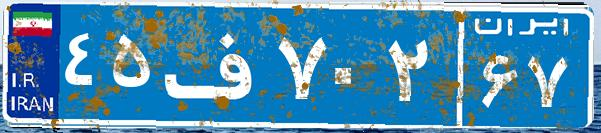0: (330, 28, 385, 110)
2: (385, 28, 445, 110)
4: (57, 26, 110, 107)
5: (110, 28, 158, 105)
6: (475, 38, 525, 113)
7: (273, 28, 330, 110), (525, 38, 570, 115)
ف: (158, 15, 273, 115)
